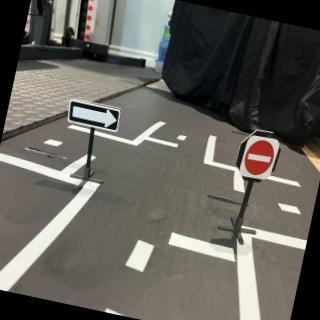sign_noentry: (239, 135, 279, 183)
sign_oneway_right: (66, 98, 124, 135)
